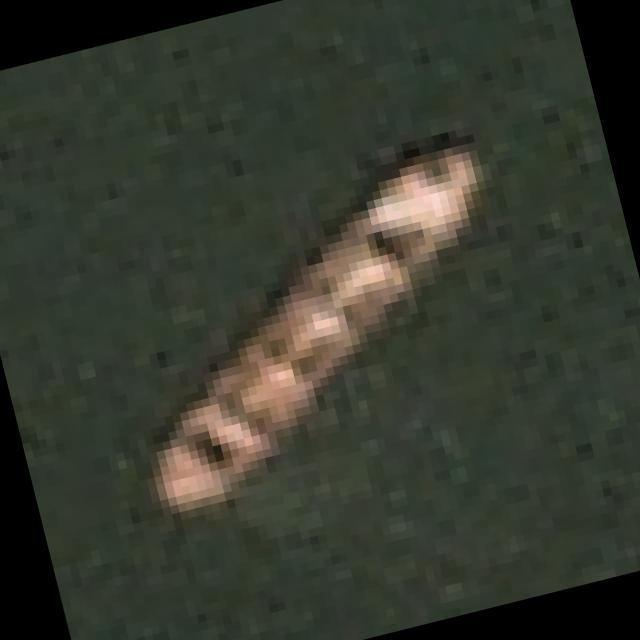ship: (39, 102, 578, 576)
